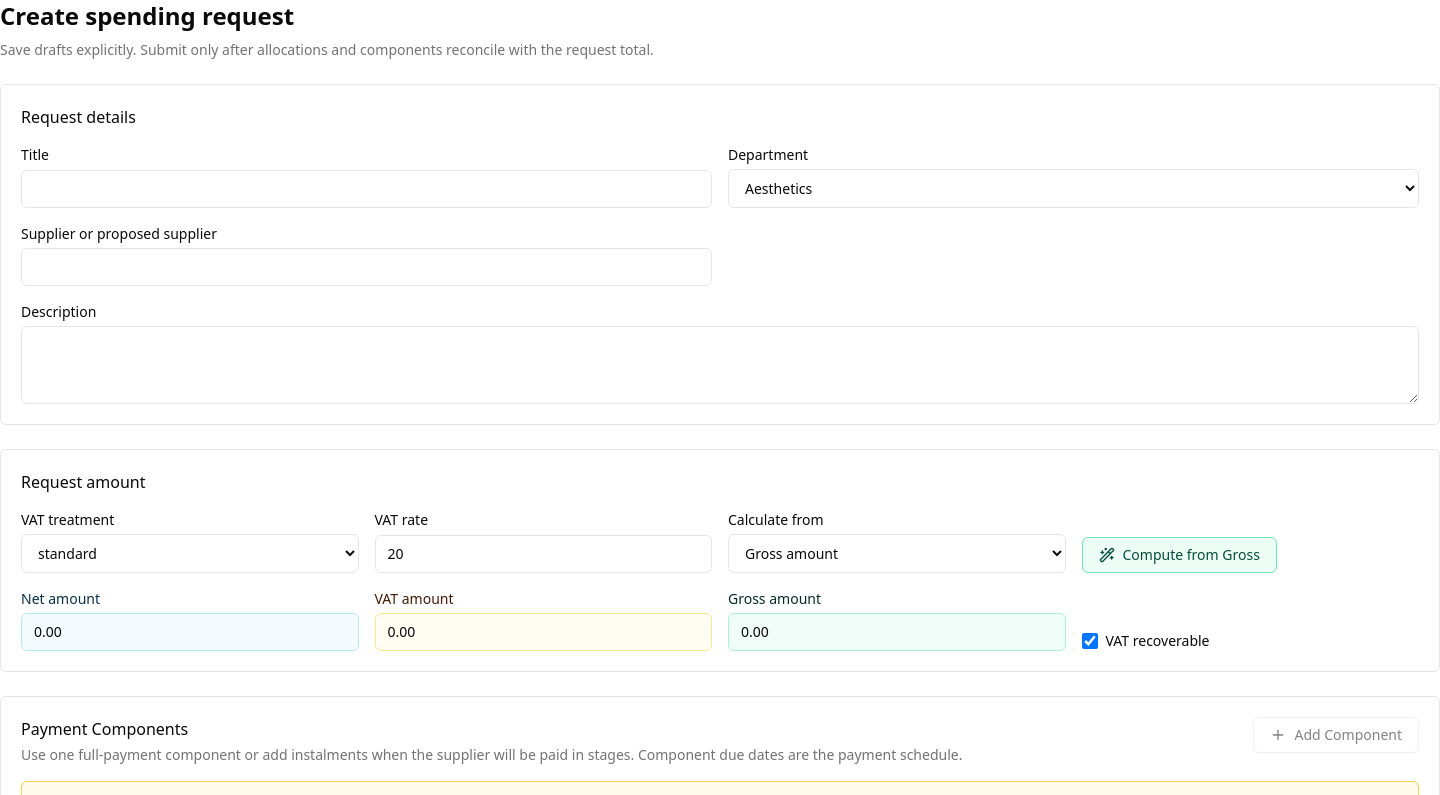
Scenario: Stage 5 spending request panels › calculates VAT from gross with integer-safe displayed values
The image size is (1440, 795).
Replace the text in the field labelled "Gross amount" with "12000" at x=897, y=632, box [728, 613, 1066, 651]
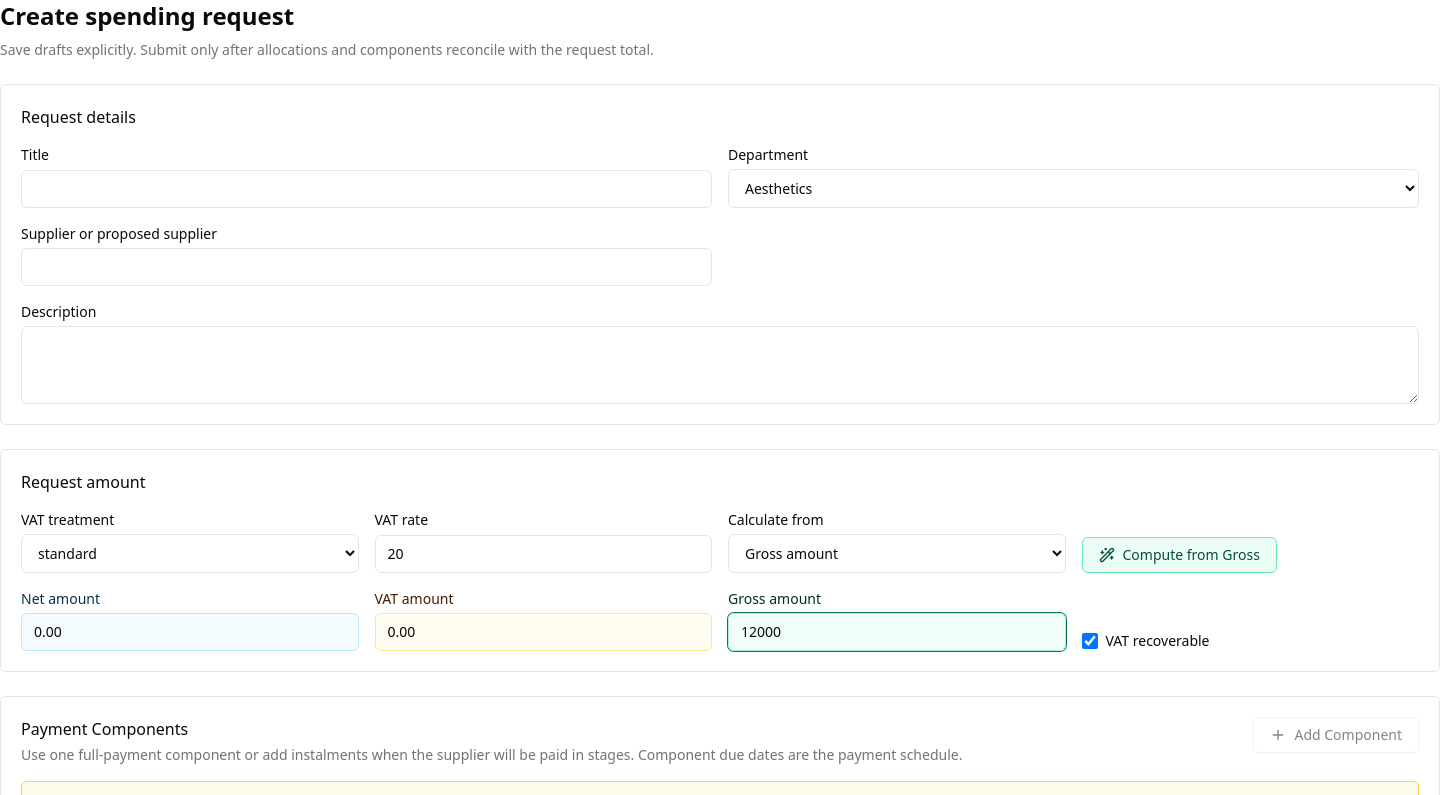
Click the button "Compute from Gross".
click(1179, 555)  # box [1082, 537, 1277, 573]
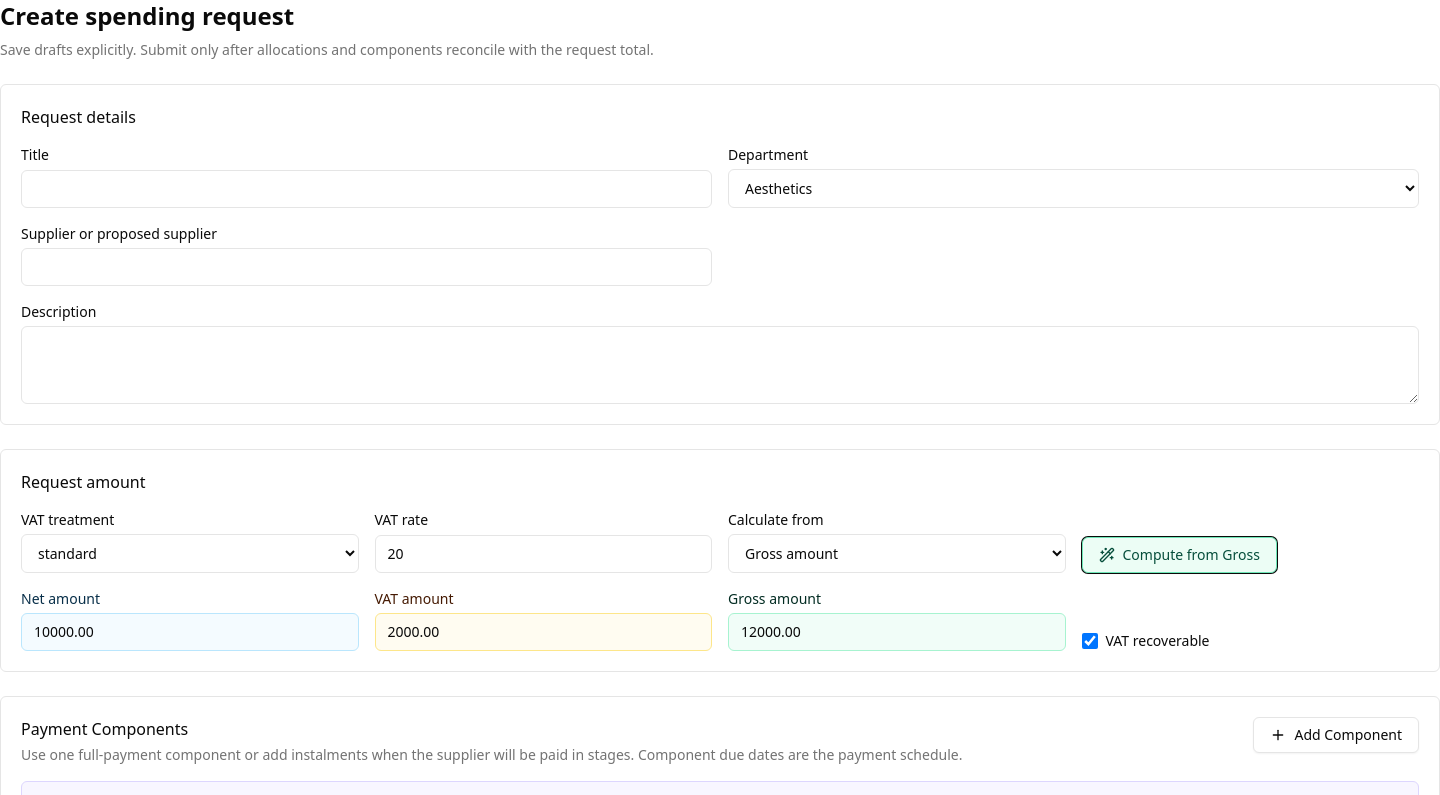
Expected: the field labelled "Net amount" holds "10000.00", [21, 613, 358, 651]
Expected: the field labelled "VAT amount" holds "2000.00", [374, 613, 712, 651]
Expected: the field labelled "Gross amount" holds "12000.00", [728, 613, 1066, 651]
